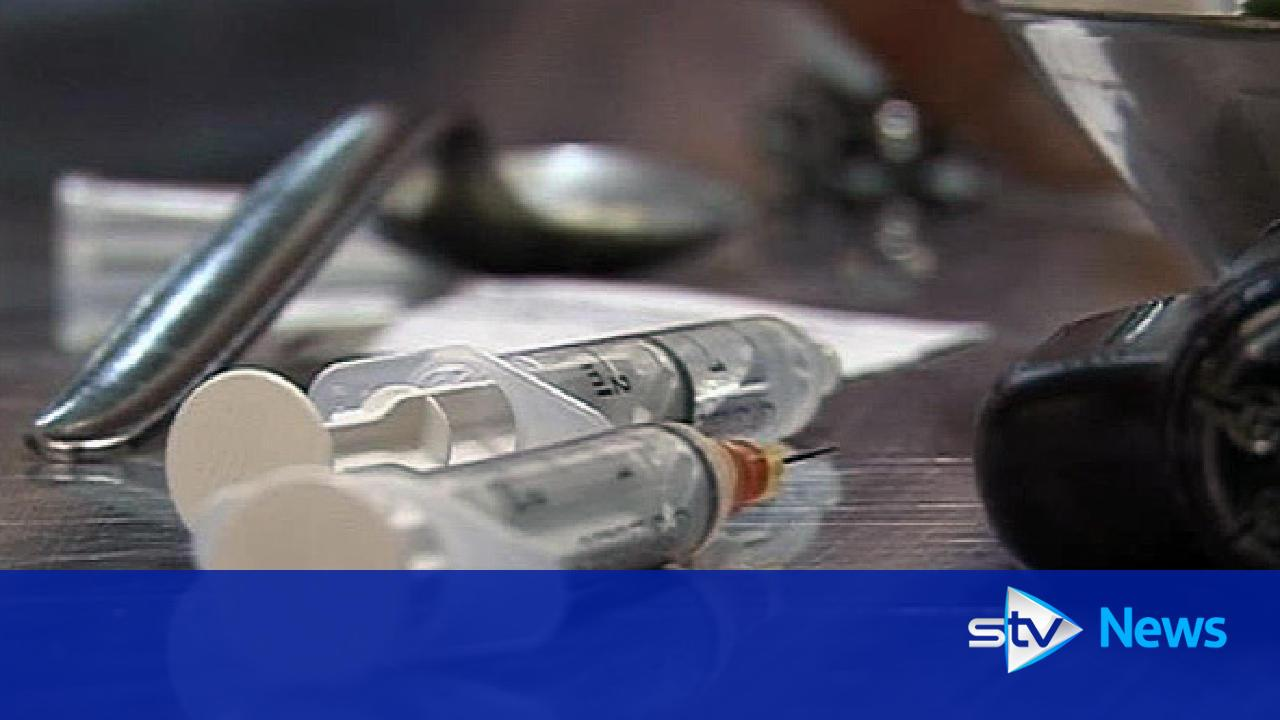Syringe: (165, 317, 838, 521), (195, 423, 786, 568), (501, 316, 839, 440)
